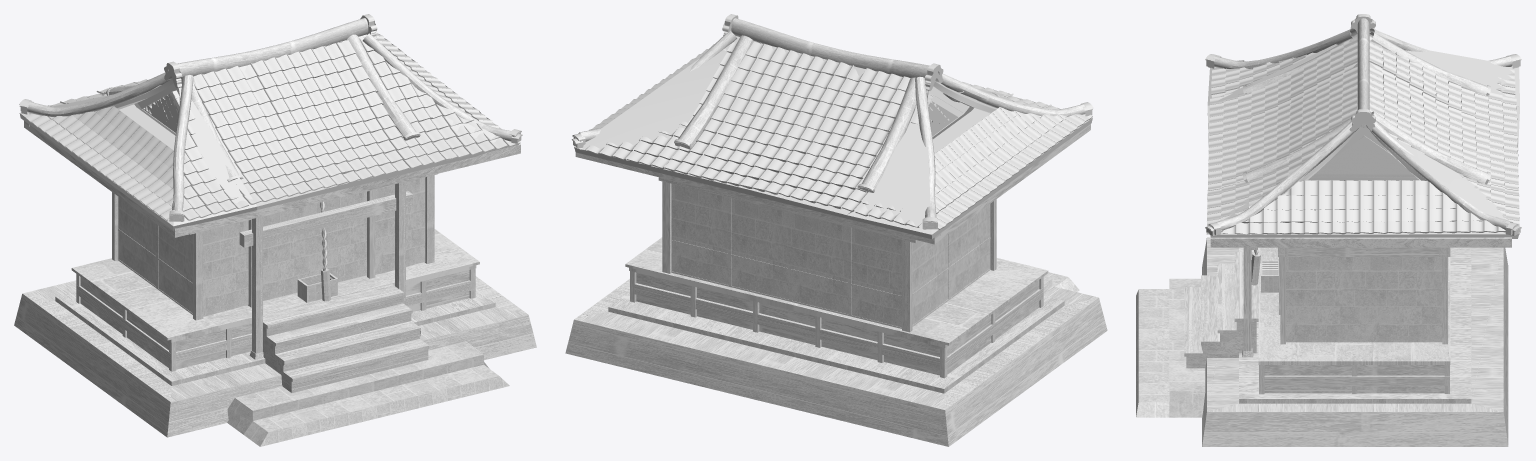
The model's file is hounou2.fbx.
The picture shows the model from 3 angles, left to right: view 1: azimuth 30°, elevation 25°; view 2: azimuth 150°, elevation 25°; view 3: azimuth 270°, elevation 25°; orthographic projection. The views are drawn at different scales.
Parts seen in each view (by area): view 1: Box (×17); view 2: Box (×9); view 3: Box (×13).
Boxes of the visible parts, x1,y1,x2,y2 form: Box (×17): (14, 14, 536, 446); Box (×9): (565, 14, 1107, 446); Box (×13): (1136, 14, 1521, 446).
Bounding box in the file's own units: 60.92 × 46.25 × 55.1.
Materials: 1 (1 with a texture image).
